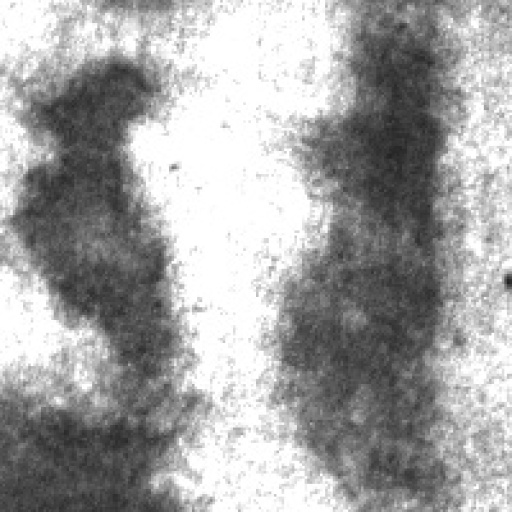patches: (257, 4, 487, 512), (9, 43, 203, 352), (1, 352, 229, 510)
